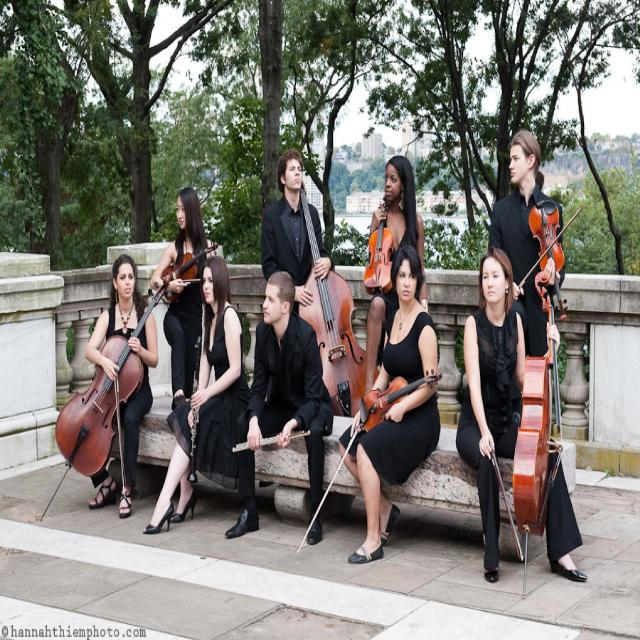cello: (52, 281, 174, 484), (512, 274, 564, 536)
clarinet: (182, 362, 201, 483)
violin: (357, 370, 446, 436), (527, 198, 568, 326), (362, 191, 397, 298), (161, 242, 220, 289)
